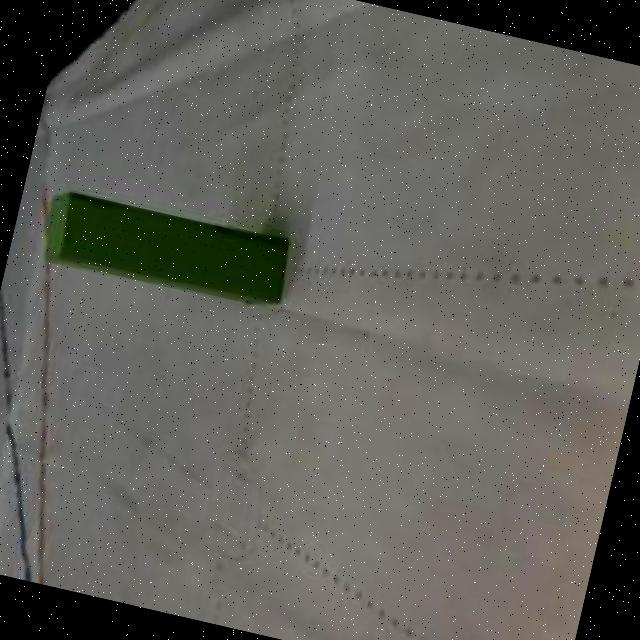greenbox: (28, 177, 297, 326)
